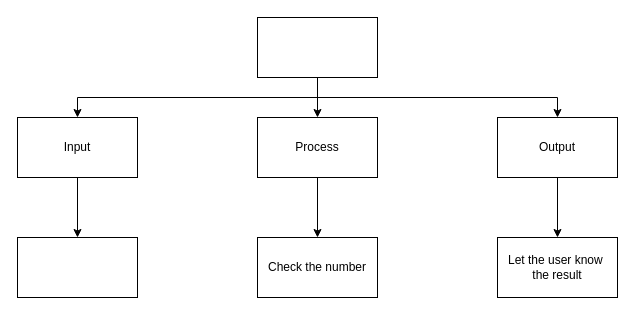
Image size: 635x315. Some labels were removed from this diagram. The centre of each missing label's shape, as x and y in pixels:
"Check the number is a leap year or not" goes at point (317, 47).
"Get the number" goes at point (77, 267).
